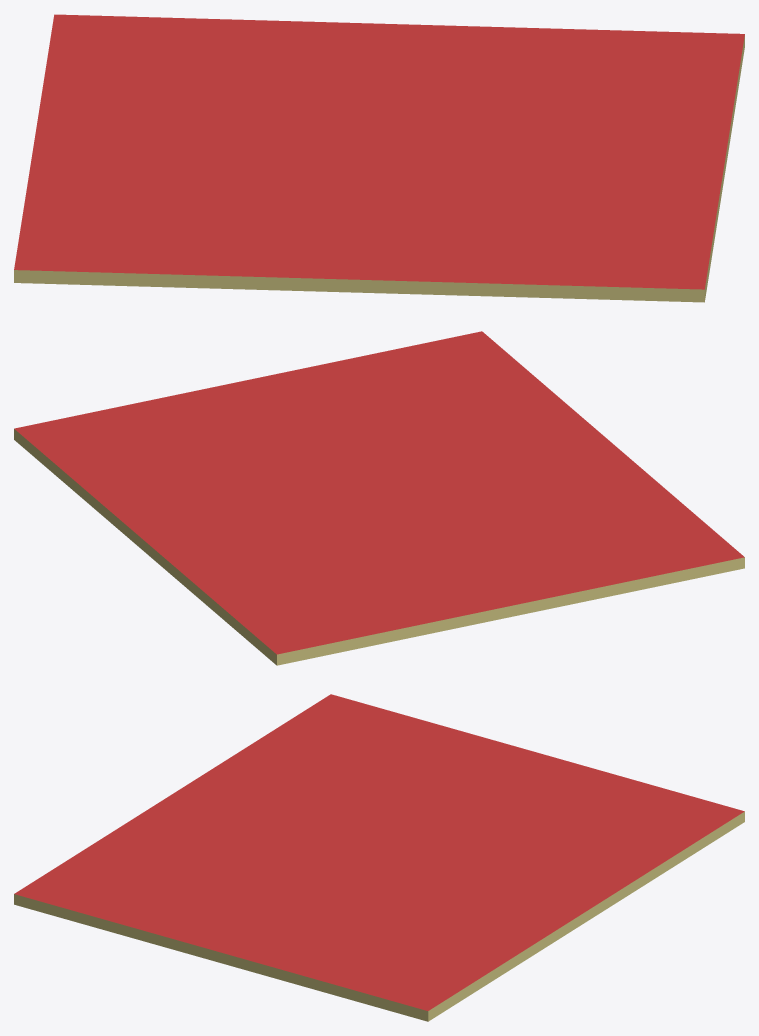
3 views of the same model, one above another, from view 1: azimuth 30°, elevation 25°; view 2: azimuth 150°, elevation 25°; view 3: azimuth 270°, elevation 25° (orthographic). The views are drawn at different scales.
Visible parts, largest first — view 1: group_3, group_4; view 2: group_3, group_4; view 3: group_3, group_4.
Part boxes in pixels (<box>): group_3: <box>14,14,744,289</box>; group_4: <box>14,35,744,302</box>; group_3: <box>14,331,744,654</box>; group_4: <box>14,429,744,665</box>; group_3: <box>14,694,744,1010</box>; group_4: <box>14,811,744,1021</box>.
Size of the model in its own units: 6.4 by 6.24 by 0.1.
